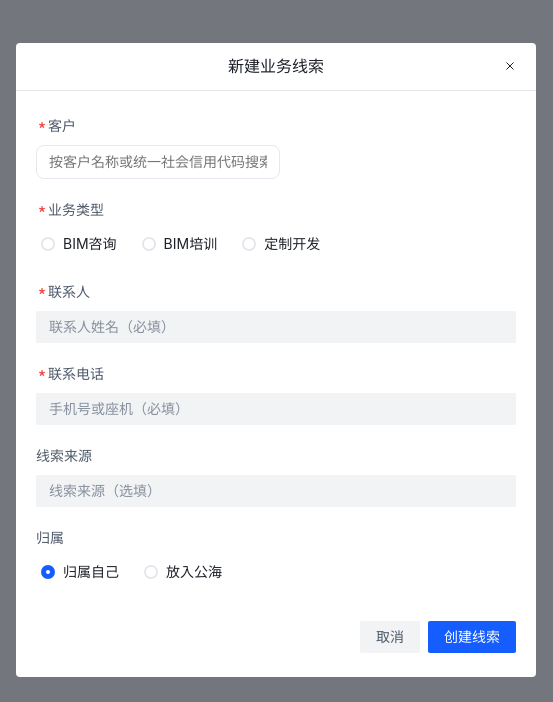
Test case: CreateLeadModal › 选定客户与业务类型后展示该客户其他业务线索（类型/归属/阶段）
The image size is (553, 702).
In the field with class "cs-search": (158, 162) top-left (36, 145), bottom-right (280, 179), type "建筑"
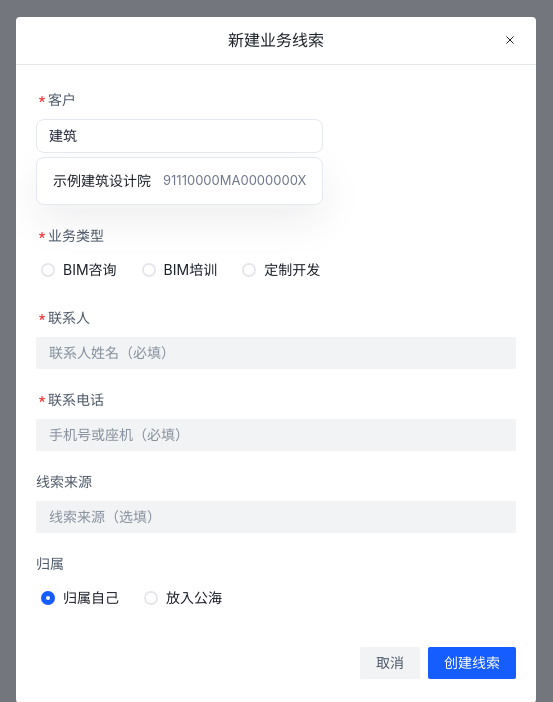
Click the list item with class "cs-option": (180, 180) top-left (53, 172), bottom-right (306, 189)
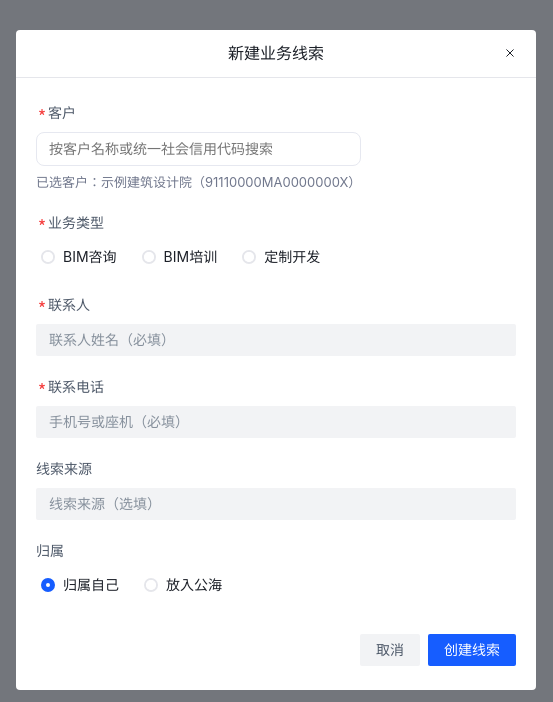
Click the radio button labelled "BIM咨询": (76, 257) top-left (36, 246), bottom-right (117, 268)
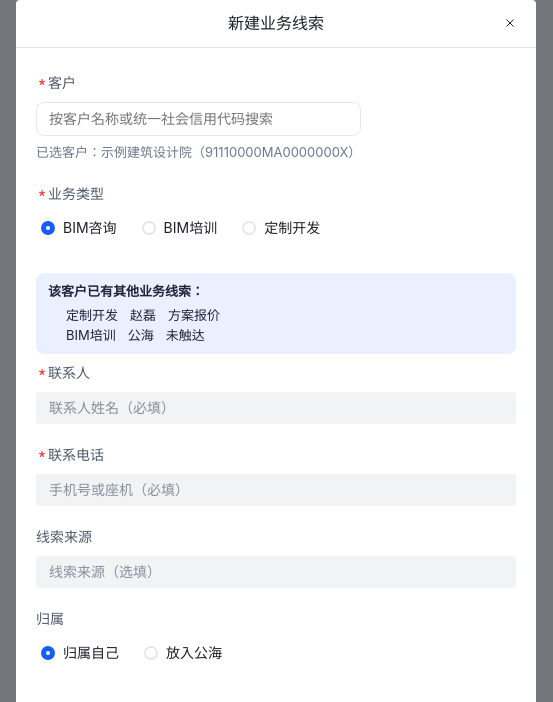
Expected: the element with class "other-leads-hint" is shown, top-left (36, 272), bottom-right (516, 354)
Expected: the element with class "other-leads-hint" shows "定制开发", top-left (66, 307), bottom-right (118, 323)
Expected: the element with class "other-leads-hint" shows "赵磊", top-left (130, 307), bottom-right (156, 323)
